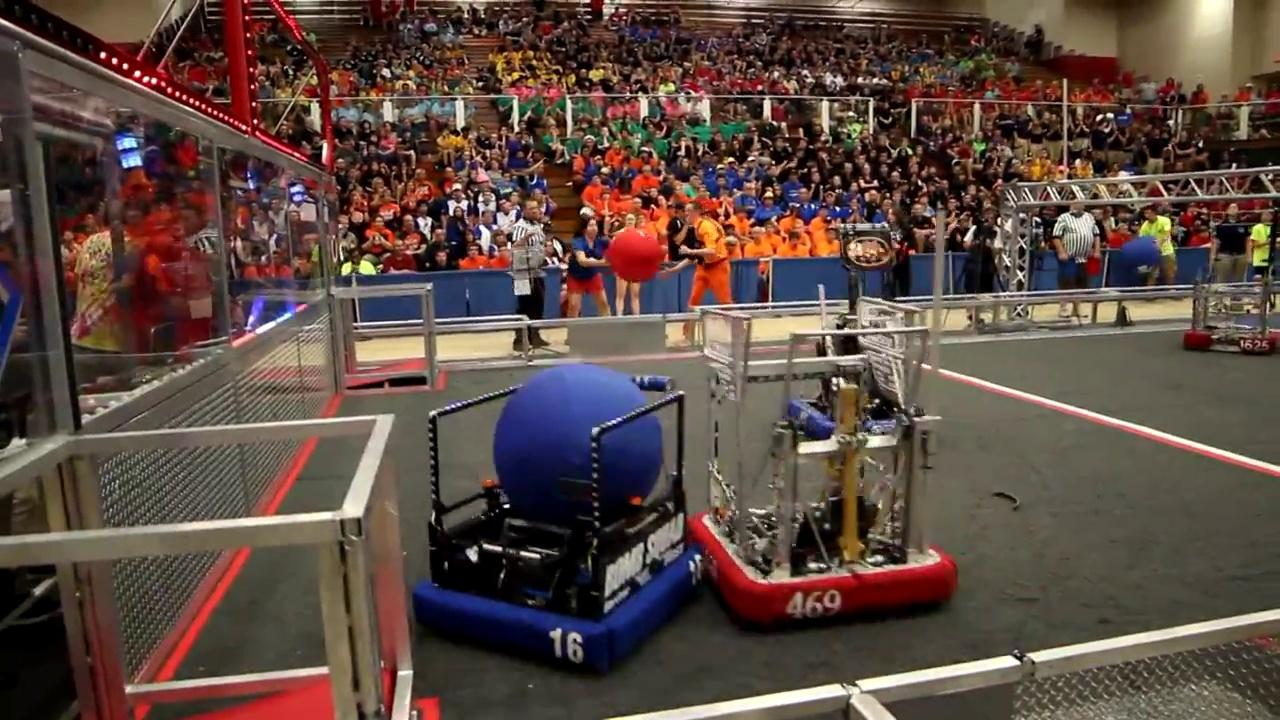robot: (688, 208, 958, 627), (405, 360, 710, 681), (1179, 266, 1280, 360)
